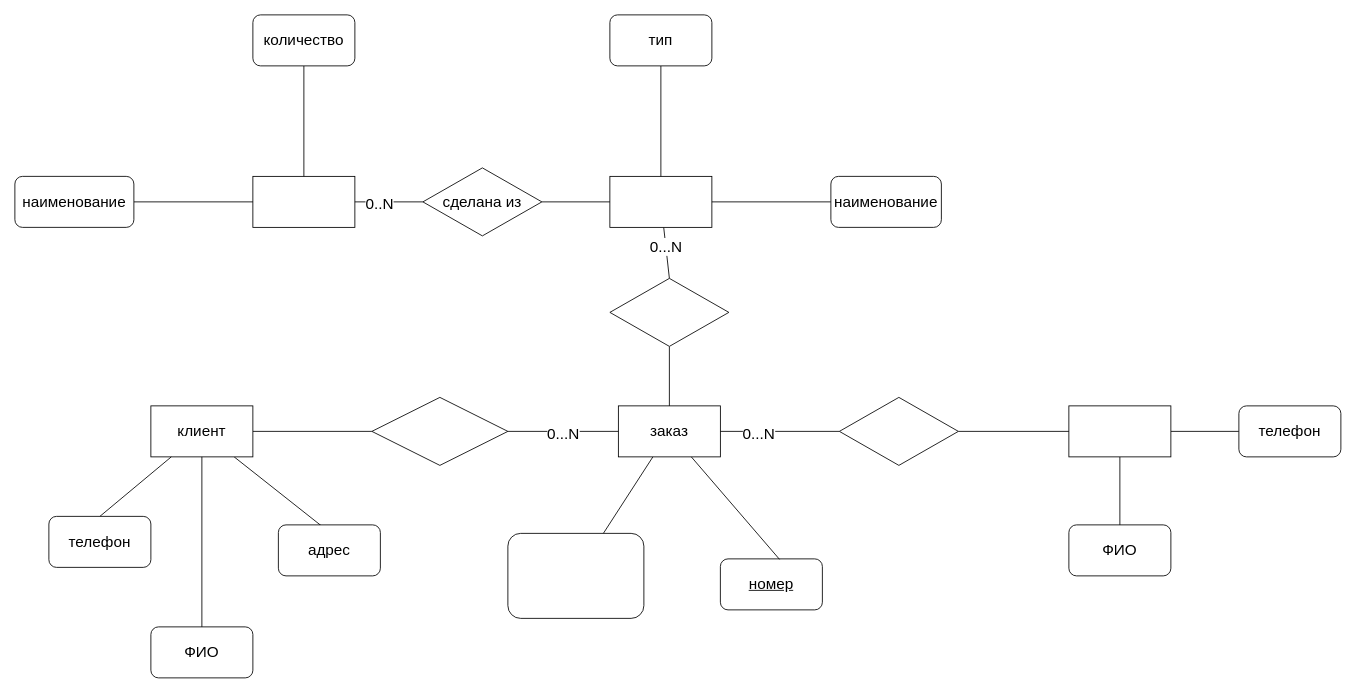
Some shapes in this 1356 by 693 pixel diagram are drawn without their labels. Each missing label, with the centre of its shape:
"делает" belongs at pixel 439 431.
"доставляет" belongs at pixel 898 431.
"курьер" belongs at pixel 1119 431.
"пицца" belongs at pixel 660 201.
"продукт" belongs at pixel 303 201.
"содержит" belongs at pixel 669 312.
"тип (через телефон или через интернет)" belongs at pixel 575 575.
